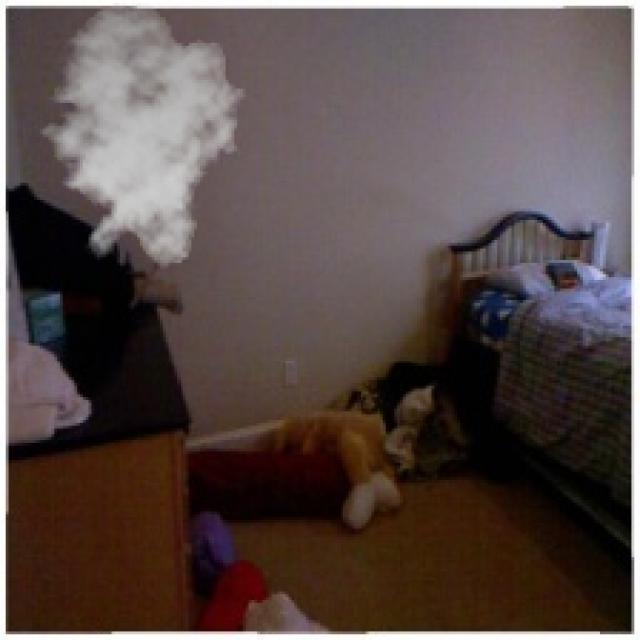Smoke: (28, 2, 252, 268)
